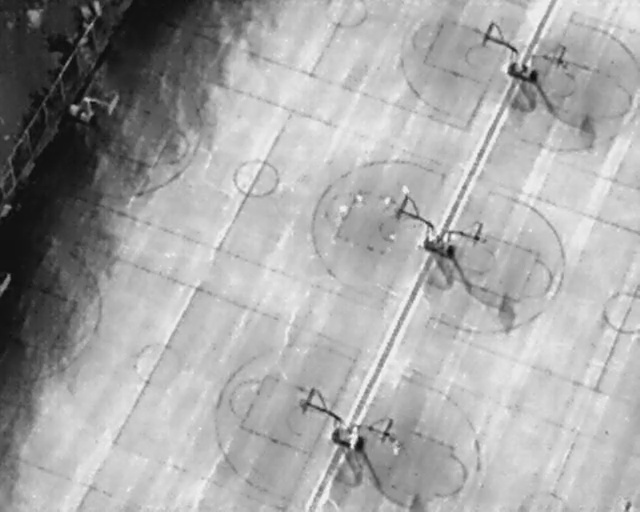Person: (391, 436, 401, 459), (339, 201, 350, 220), (383, 194, 393, 213), (355, 187, 364, 206)
